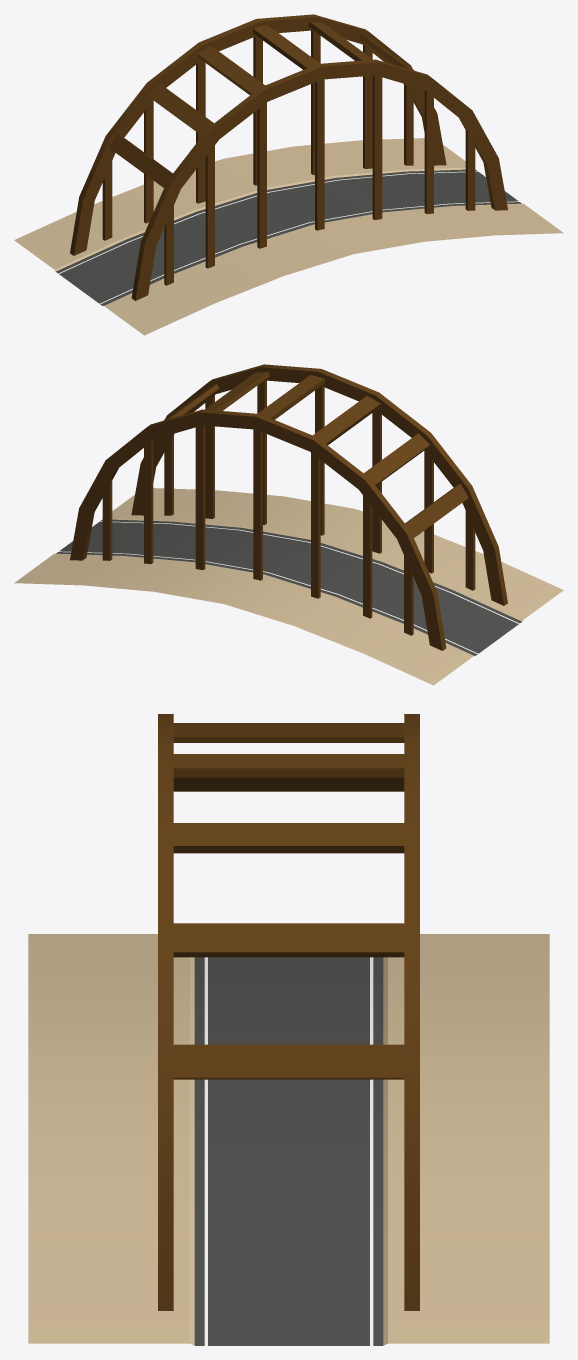
The model's file is bridge_1.fbx.
3 renders of one model, top to bottom at view 1: azimuth 30°, elevation 25°; view 2: azimuth 150°, elevation 25°; view 3: azimuth 270°, elevation 25°, orthographic. The views are drawn at different scales.
Visible parts, largest first — view 1: bridge_1; view 2: bridge_1; view 3: bridge_1.
Part boxes in pixels (bbox=[...]): bridge_1: bbox=[14, 14, 563, 335]; bridge_1: bbox=[14, 364, 563, 685]; bridge_1: bbox=[28, 714, 549, 1345].
Bounding box in the file's own units: 3116 × 1383 × 1676.
